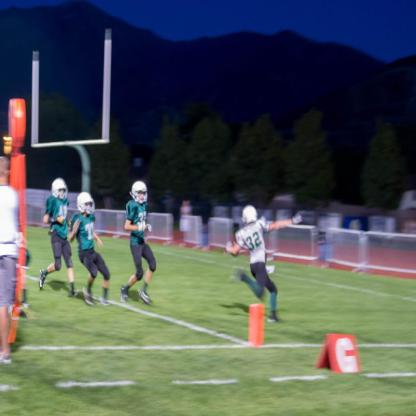Helmet: (129, 178, 148, 206), (73, 192, 95, 213), (51, 177, 67, 200), (242, 205, 258, 225)
